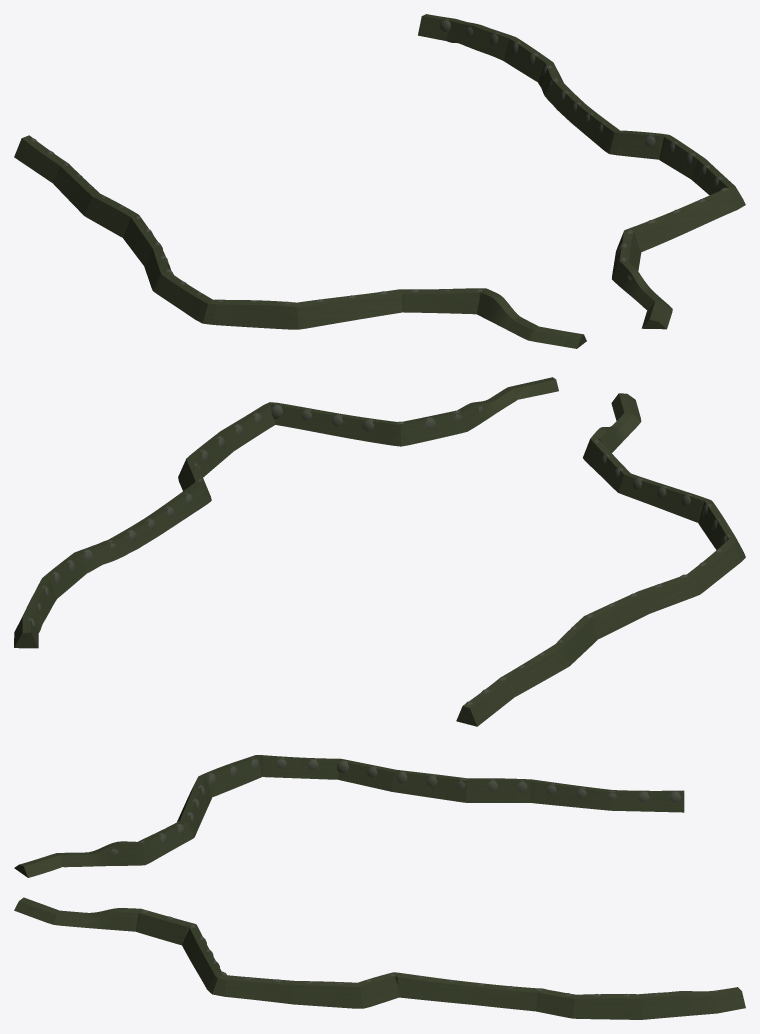
File: level_camp_boundary_banks.glb
3 views of the same model, one above another, from view 1: azimuth 30°, elevation 25°; view 2: azimuth 150°, elevation 25°; view 3: azimuth 270°, elevation 25° (orthographic). The views are drawn at different scales.
Visible parts, largest first — view 1: level_camp_boundary_banks; view 2: level_camp_boundary_banks; view 3: level_camp_boundary_banks.
Part boxes in pixels (<box>): level_camp_boundary_banks: <box>14,14,745,348</box>; level_camp_boundary_banks: <box>14,377,745,726</box>; level_camp_boundary_banks: <box>14,755,745,1019</box>.
Size of the model in its own units: 62.7 by 5.19 by 80.75.
2 materials, 2 textured.
